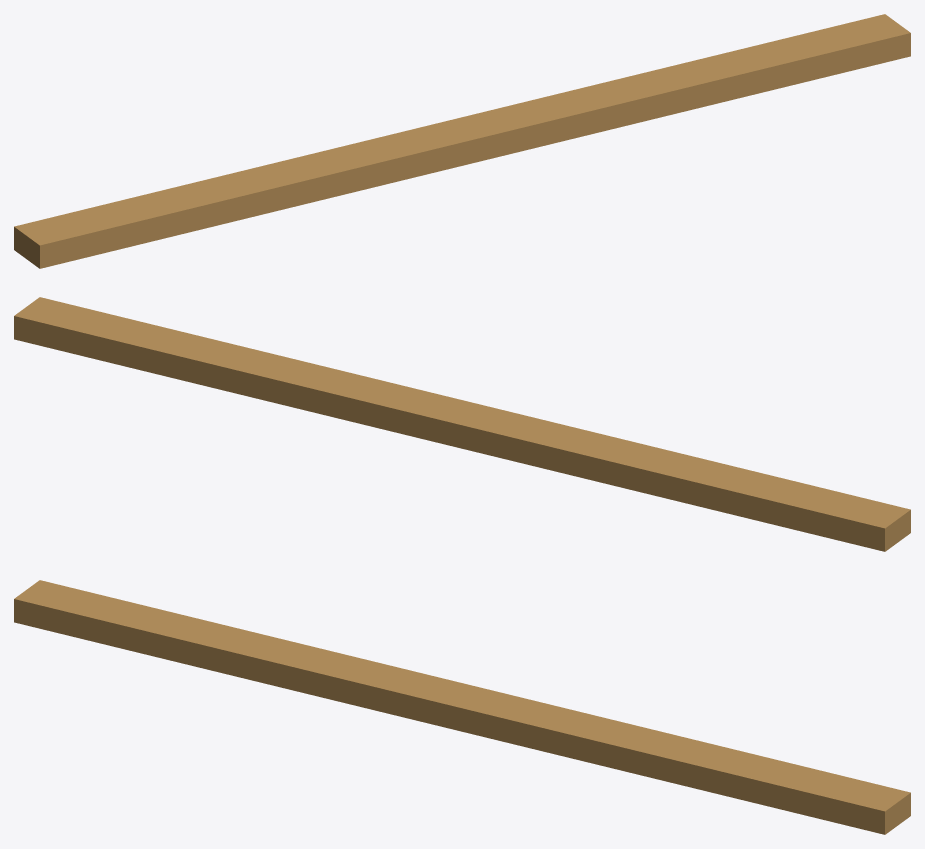
The picture shows the model from 3 angles, top to bottom: view 1: azimuth 30°, elevation 25°; view 2: azimuth 150°, elevation 25°; view 3: azimuth 330°, elevation 25°; orthographic projection.
Parts seen in each view (by area): view 1: RUN-047-S01-top_plate; view 2: RUN-047-S01-top_plate; view 3: RUN-047-S01-top_plate.
Boxes of the visible parts, x1,y1,x2,y2 form: RUN-047-S01-top_plate: (14, 14, 910, 268); RUN-047-S01-top_plate: (14, 297, 910, 551); RUN-047-S01-top_plate: (14, 580, 910, 834).
Size of the model in its own units: 1.75 by 0.045 by 0.09.
